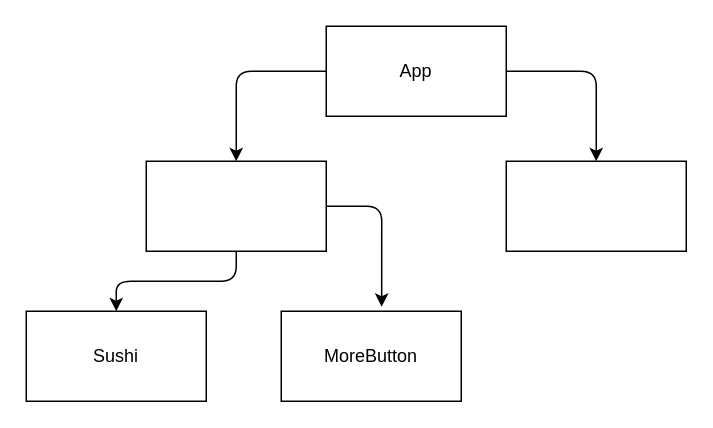
This 713x428 diagram has some shape labels left out. The box of each missing label's shape, as (x1, y1, x2, y2) in pixels:
Sushi Container: (145, 160, 326, 251)
Table: (505, 160, 686, 251)
